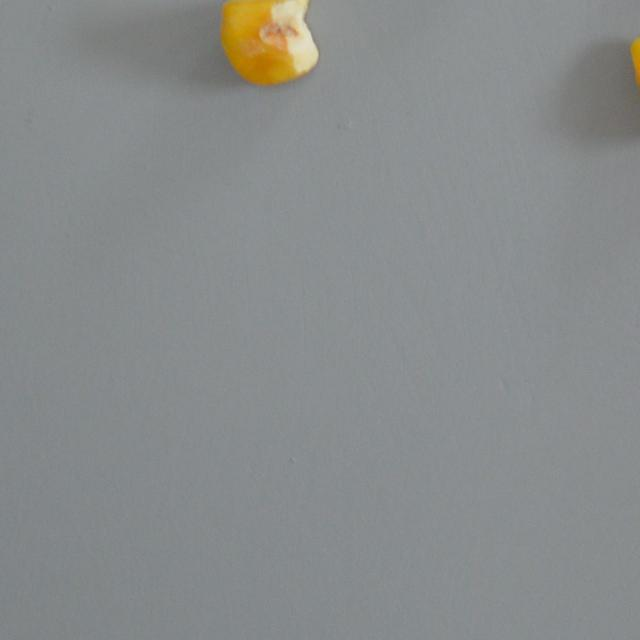dañado: (215, 0, 320, 93)
pelicula: (628, 28, 640, 138)
